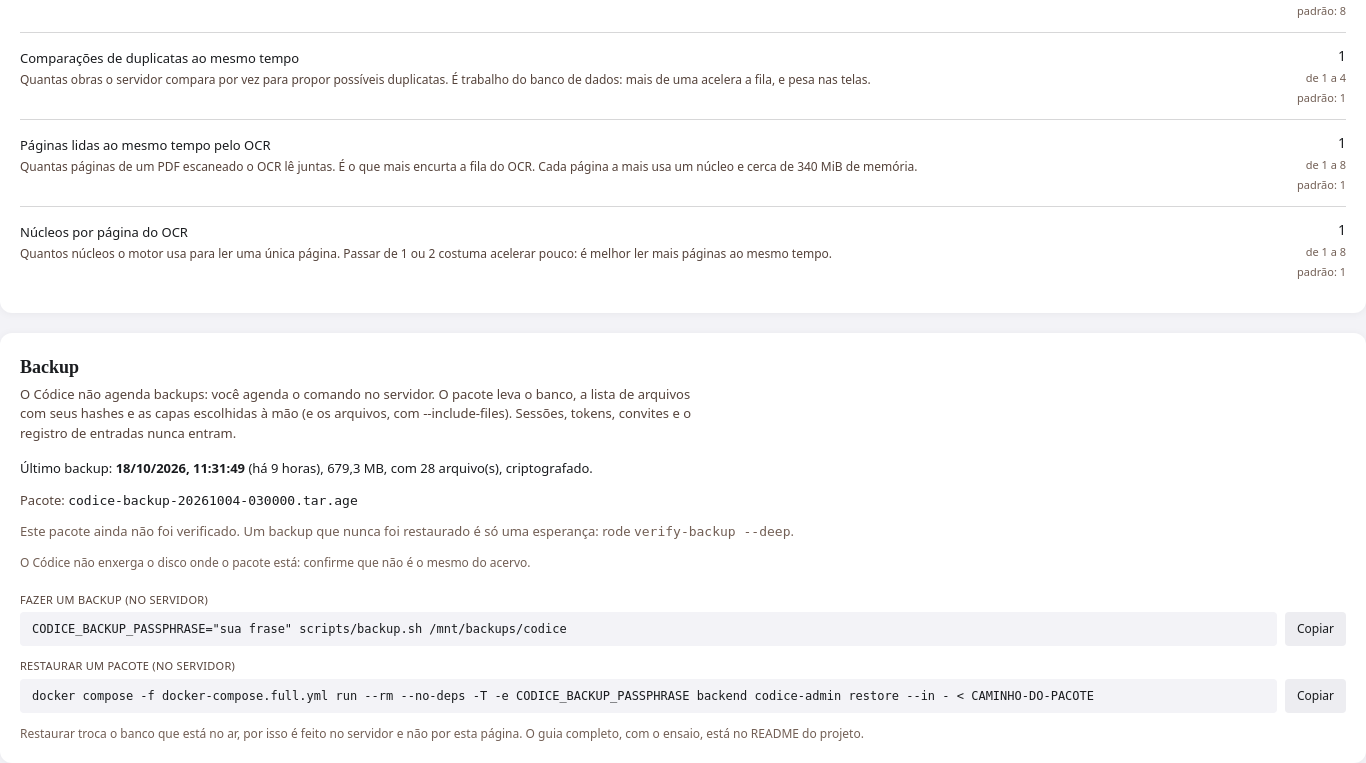
Test: SystemTab: backup › copies a command
The width and height of the screenshot is (1366, 763).
(page scrolled)
Click the 2nd button "Copiar": (1316, 696) [1285,679,1346,713]
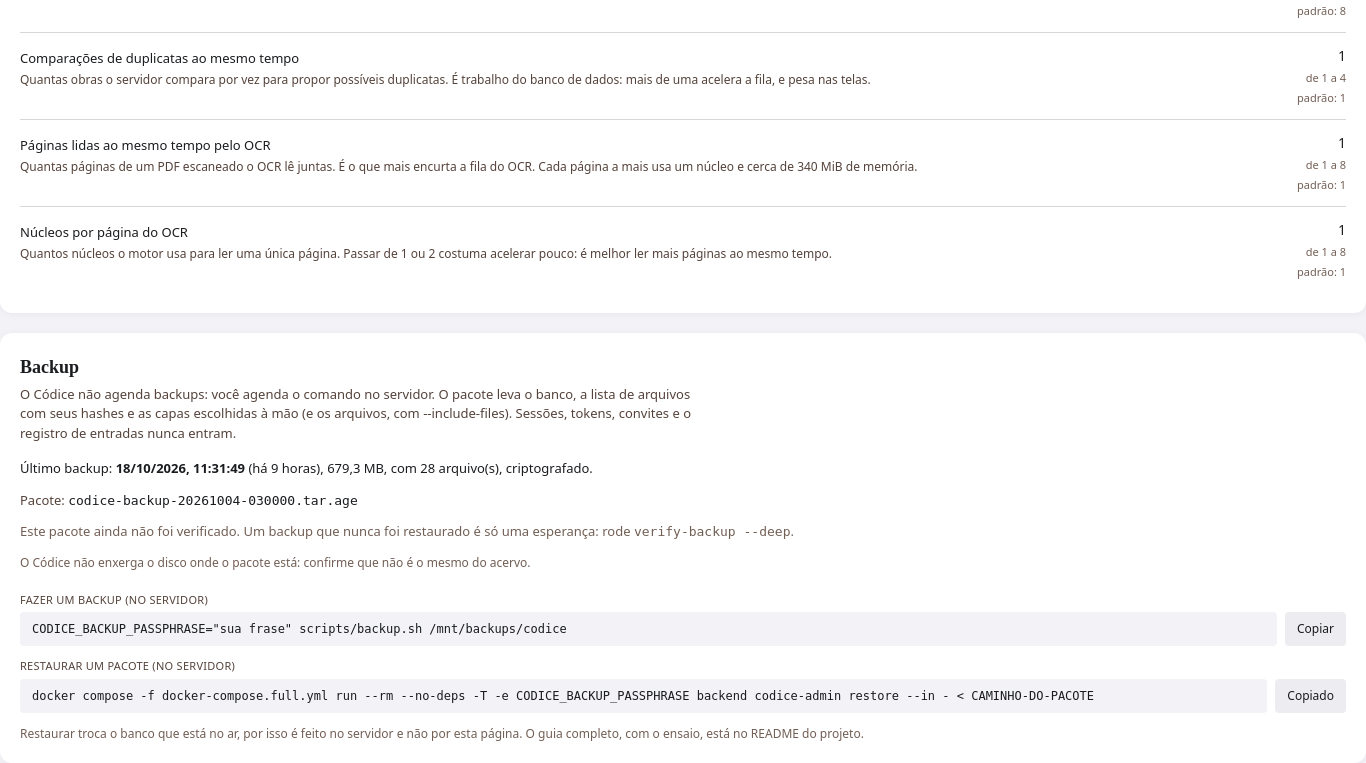
expect the text "Copiado" is shown: met, box [1275,679,1346,713]
